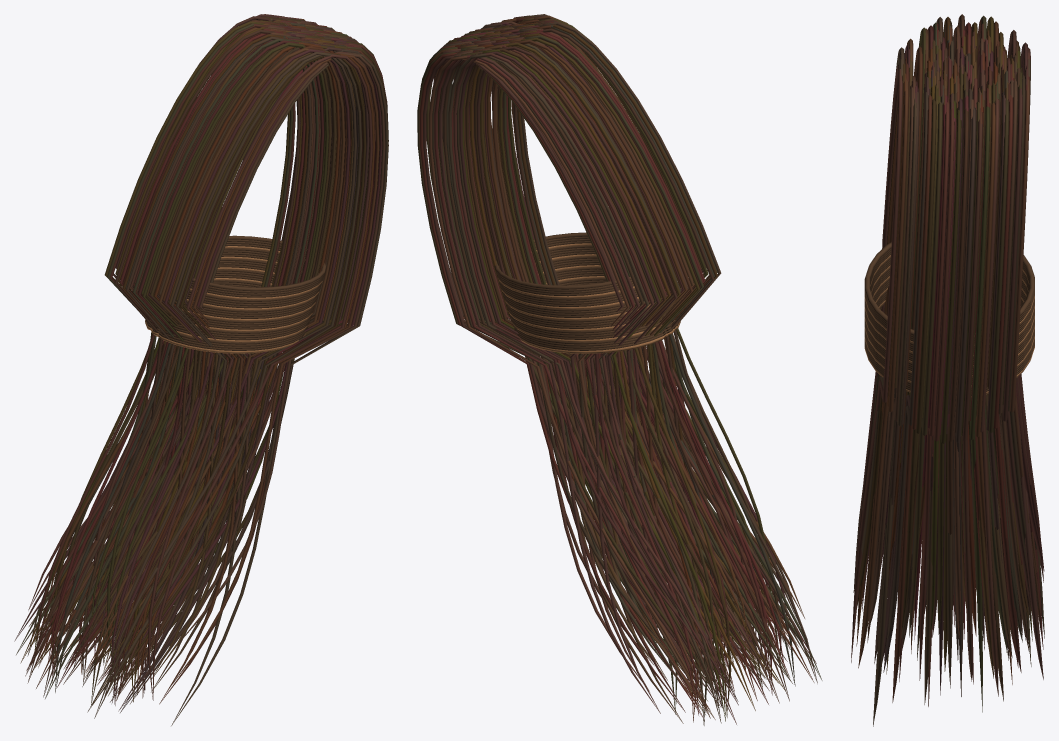
The model's file is horse_tailhair.glb.
The picture shows the model from 3 angles, left to right: view 1: azimuth 30°, elevation 25°; view 2: azimuth 150°, elevation 25°; view 3: azimuth 270°, elevation 25°; orthographic projection. The views are drawn at different scales.
Visible parts, largest first — view 1: Brown horse tail keratin, Brown hair binding; view 2: Brown horse tail keratin, Brown hair binding; view 3: Brown horse tail keratin, Brown hair binding.
Boxes of the visible parts, x1,y1,x2,y2 form: Brown horse tail keratin: (14, 14, 388, 725); Brown hair binding: (145, 235, 326, 353); Brown horse tail keratin: (417, 14, 822, 725); Brown hair binding: (494, 232, 680, 353); Brown horse tail keratin: (851, 14, 1044, 726); Brown hair binding: (864, 242, 1034, 397).
Size of the model in its own units: 0.1243 by 0.2084 by 0.0469.
